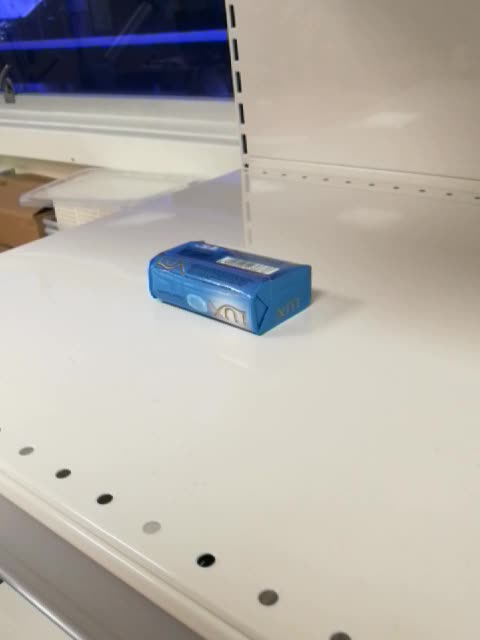soap: (147, 238, 315, 339)
